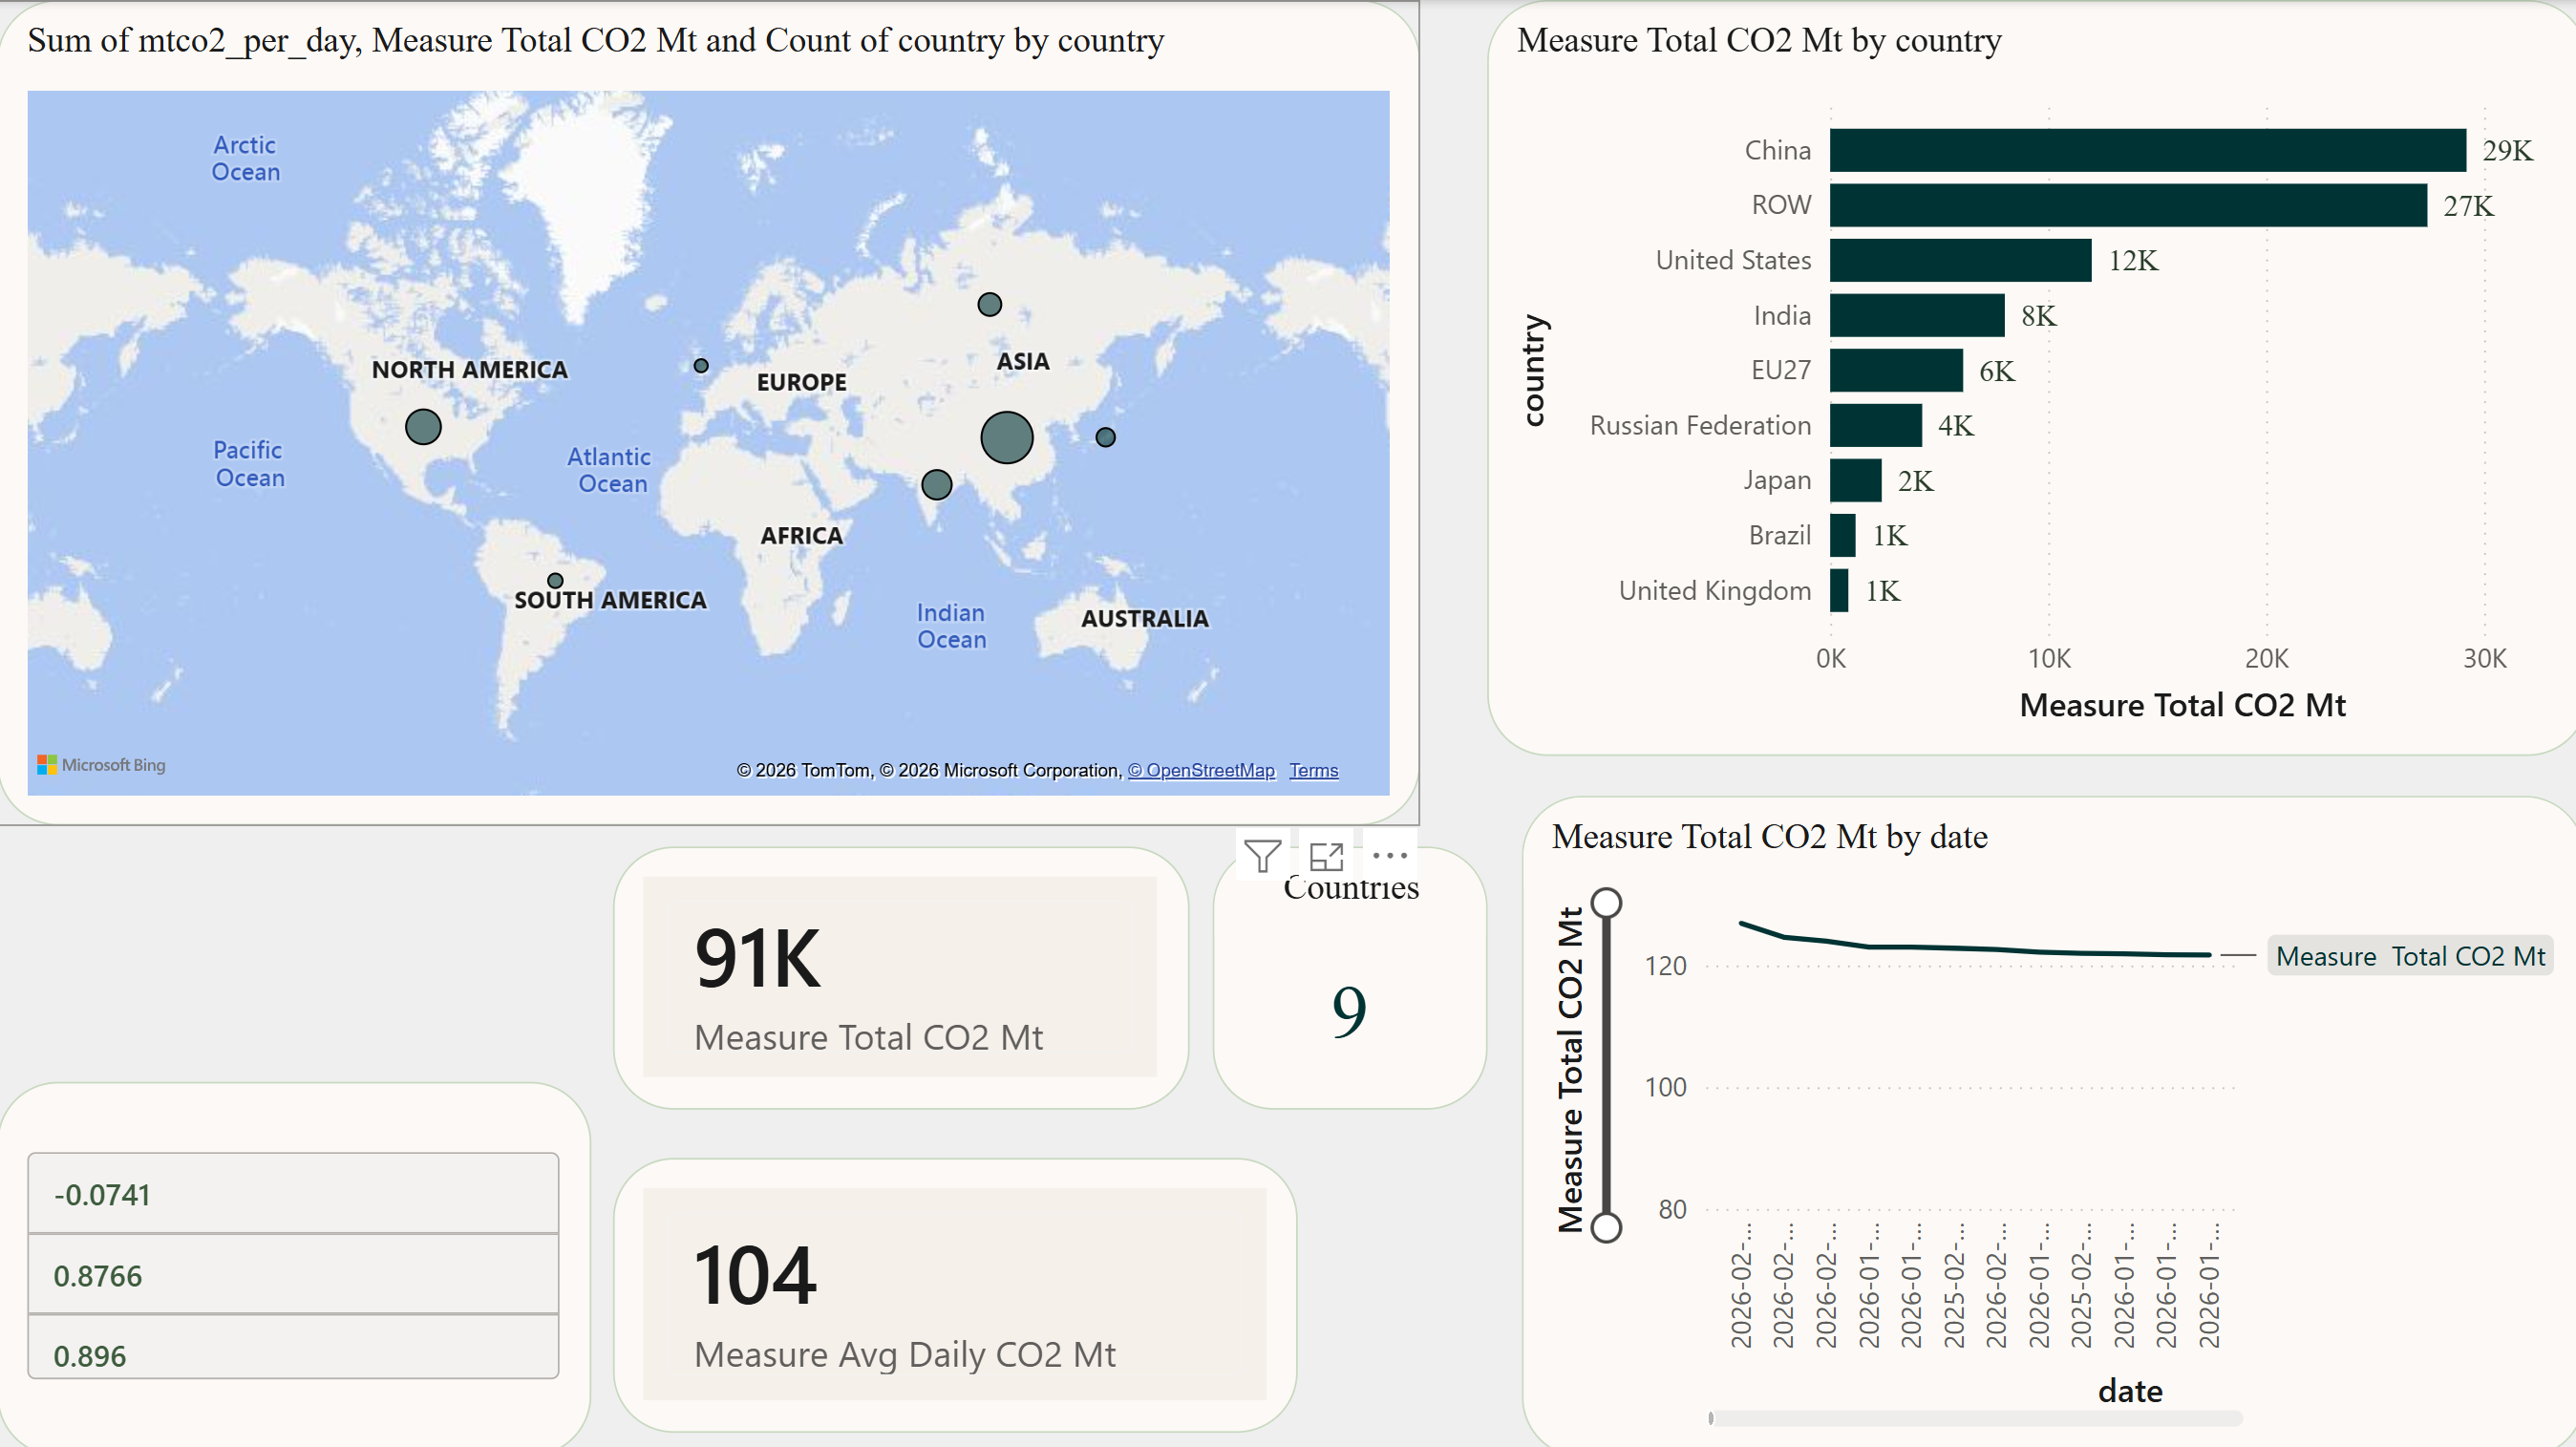

The page's visual inventory and layout, read from the dashboard file:
{"tool":"powerbi","page":{"name":"Overview","canvas":[1280,720],"ordinal":0},"visuals":[{"type":"cardVisual","fields":{"Data":["daily_emissions.Measure  Total CO2 Mt"]},"box":[304.3,418.2,284.9,129.9],"z":0},{"type":"cardVisual","fields":{"Data":["daily_emissions.Measure  Avg Daily CO2 Mt"]},"box":[304.3,572.1,338.5,135.6],"z":1000},{"type":"cardVisual","fields":{"Rows":["model_comparison.R2"]},"box":[0,534.9,293.5,184.9],"z":2000},{"type":"card","title":"Countries","fields":{"Values":["Count(daily_emissions.country)"]},"box":[600.6,418.2,135.6,129.9],"z":3000},{"type":"lineChart","fields":{"Category":["daily_emissions.date"],"Y":["daily_emissions.Measure  Total CO2 Mt"]},"box":[753.8,392.7,525.3,327],"z":4000},{"type":"clusteredBarChart","fields":{"Category":["daily_emissions.country"],"Y":["daily_emissions.Measure  Total CO2 Mt"]},"box":[735.8,0,543.9,373.5],"z":5000},{"type":"map","fields":{"Category":["daily_emissions.country"],"Size":["Sum(daily_emissions.mtco2_per_day)"]},"box":[0,0,703.1,408],"z":6000}]}

Visuals, with their boxes in screenshot pixels (x1, y1, x2, y2), scaled from the page's 1280x720 canvas onto the 2576x1447 screenshot:
cardVisual - daily_emissions.Measure  Total CO2 Mt: bbox(612, 841, 1185, 1101)
cardVisual - daily_emissions.Measure  Avg Daily CO2 Mt: bbox(612, 1150, 1293, 1422)
cardVisual - model_comparison.R2: bbox(0, 1075, 590, 1446)
"Countries" card: bbox(1208, 841, 1481, 1101)
lineChart - daily_emissions.date x daily_emissions.Measure  Total CO2 Mt: bbox(1517, 789, 2574, 1446)
clusteredBarChart - daily_emissions.country x daily_emissions.Measure  Total CO2 Mt: bbox(1480, 0, 2575, 751)
map - daily_emissions.country x Sum(daily_emissions.mtco2_per_day): bbox(0, 0, 1415, 819)
